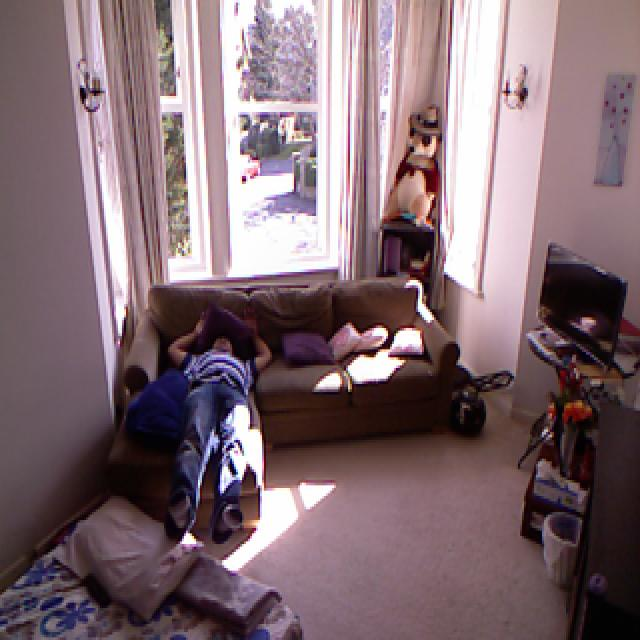lying: (162, 298, 277, 545)
